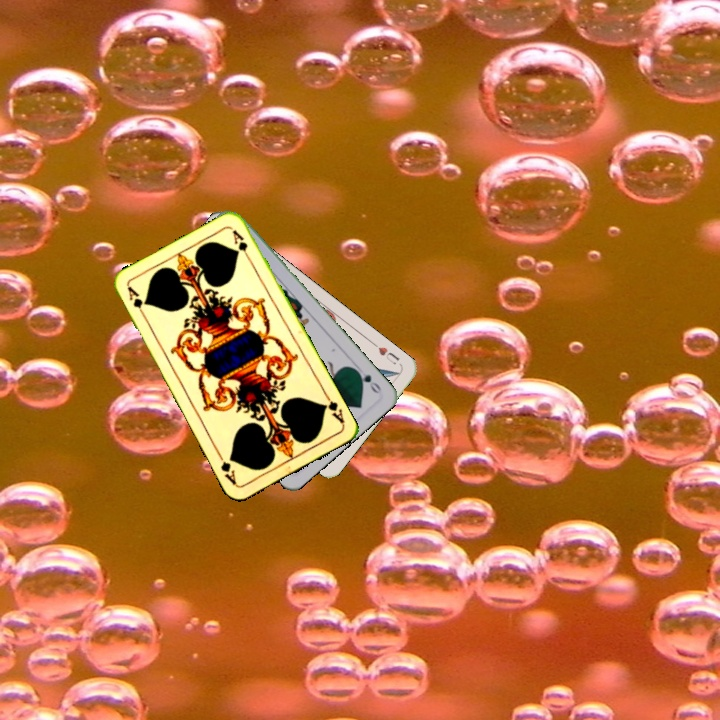GA: (319, 390, 347, 427), (123, 282, 148, 321)
GO: (351, 362, 384, 396)
HU: (374, 343, 402, 367)
